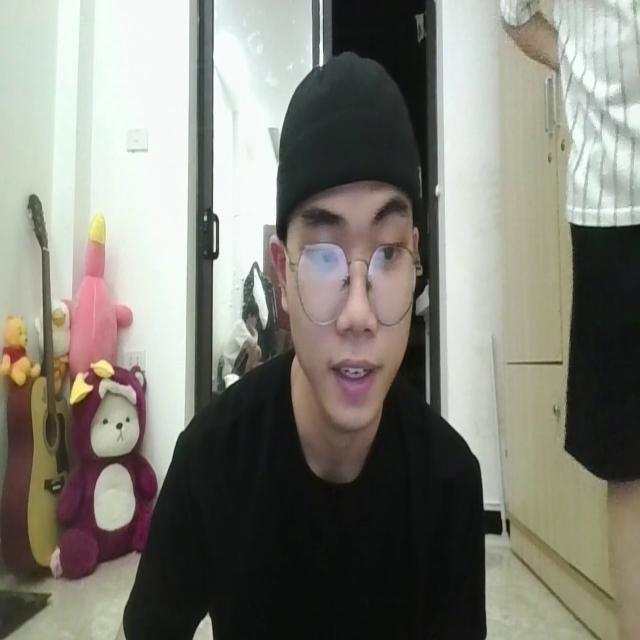extra_person: (499, 0, 640, 640)
student: (113, 54, 482, 640)
